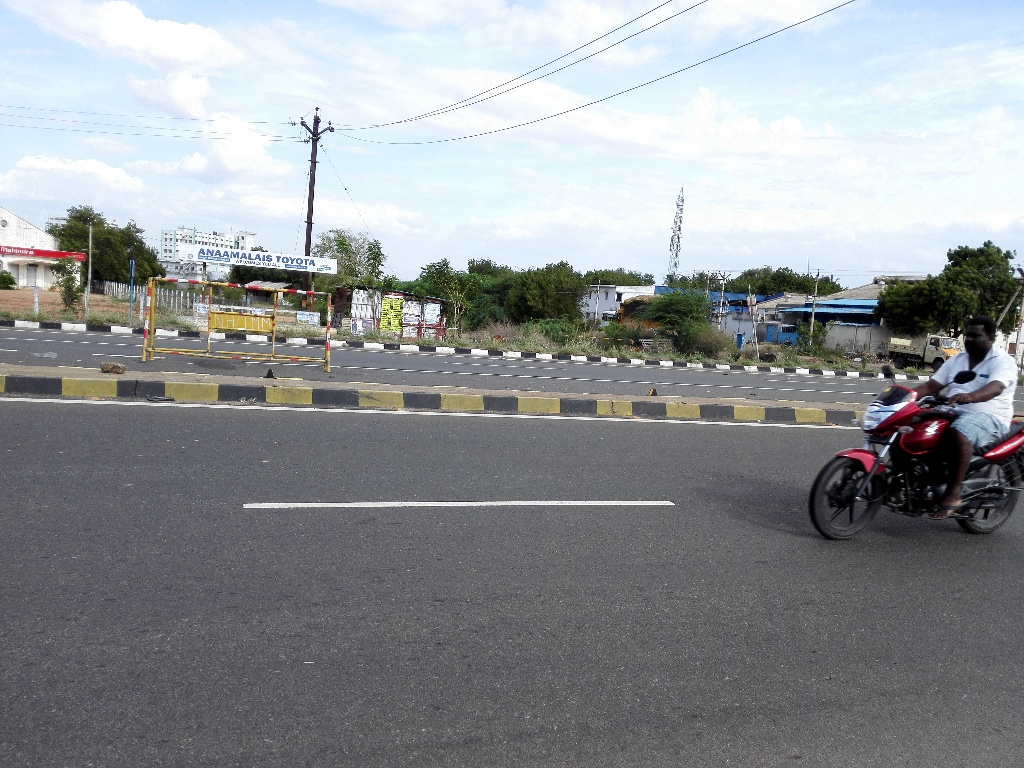biker: (797, 280, 1024, 554)
nohelmet: (954, 303, 1002, 365)
